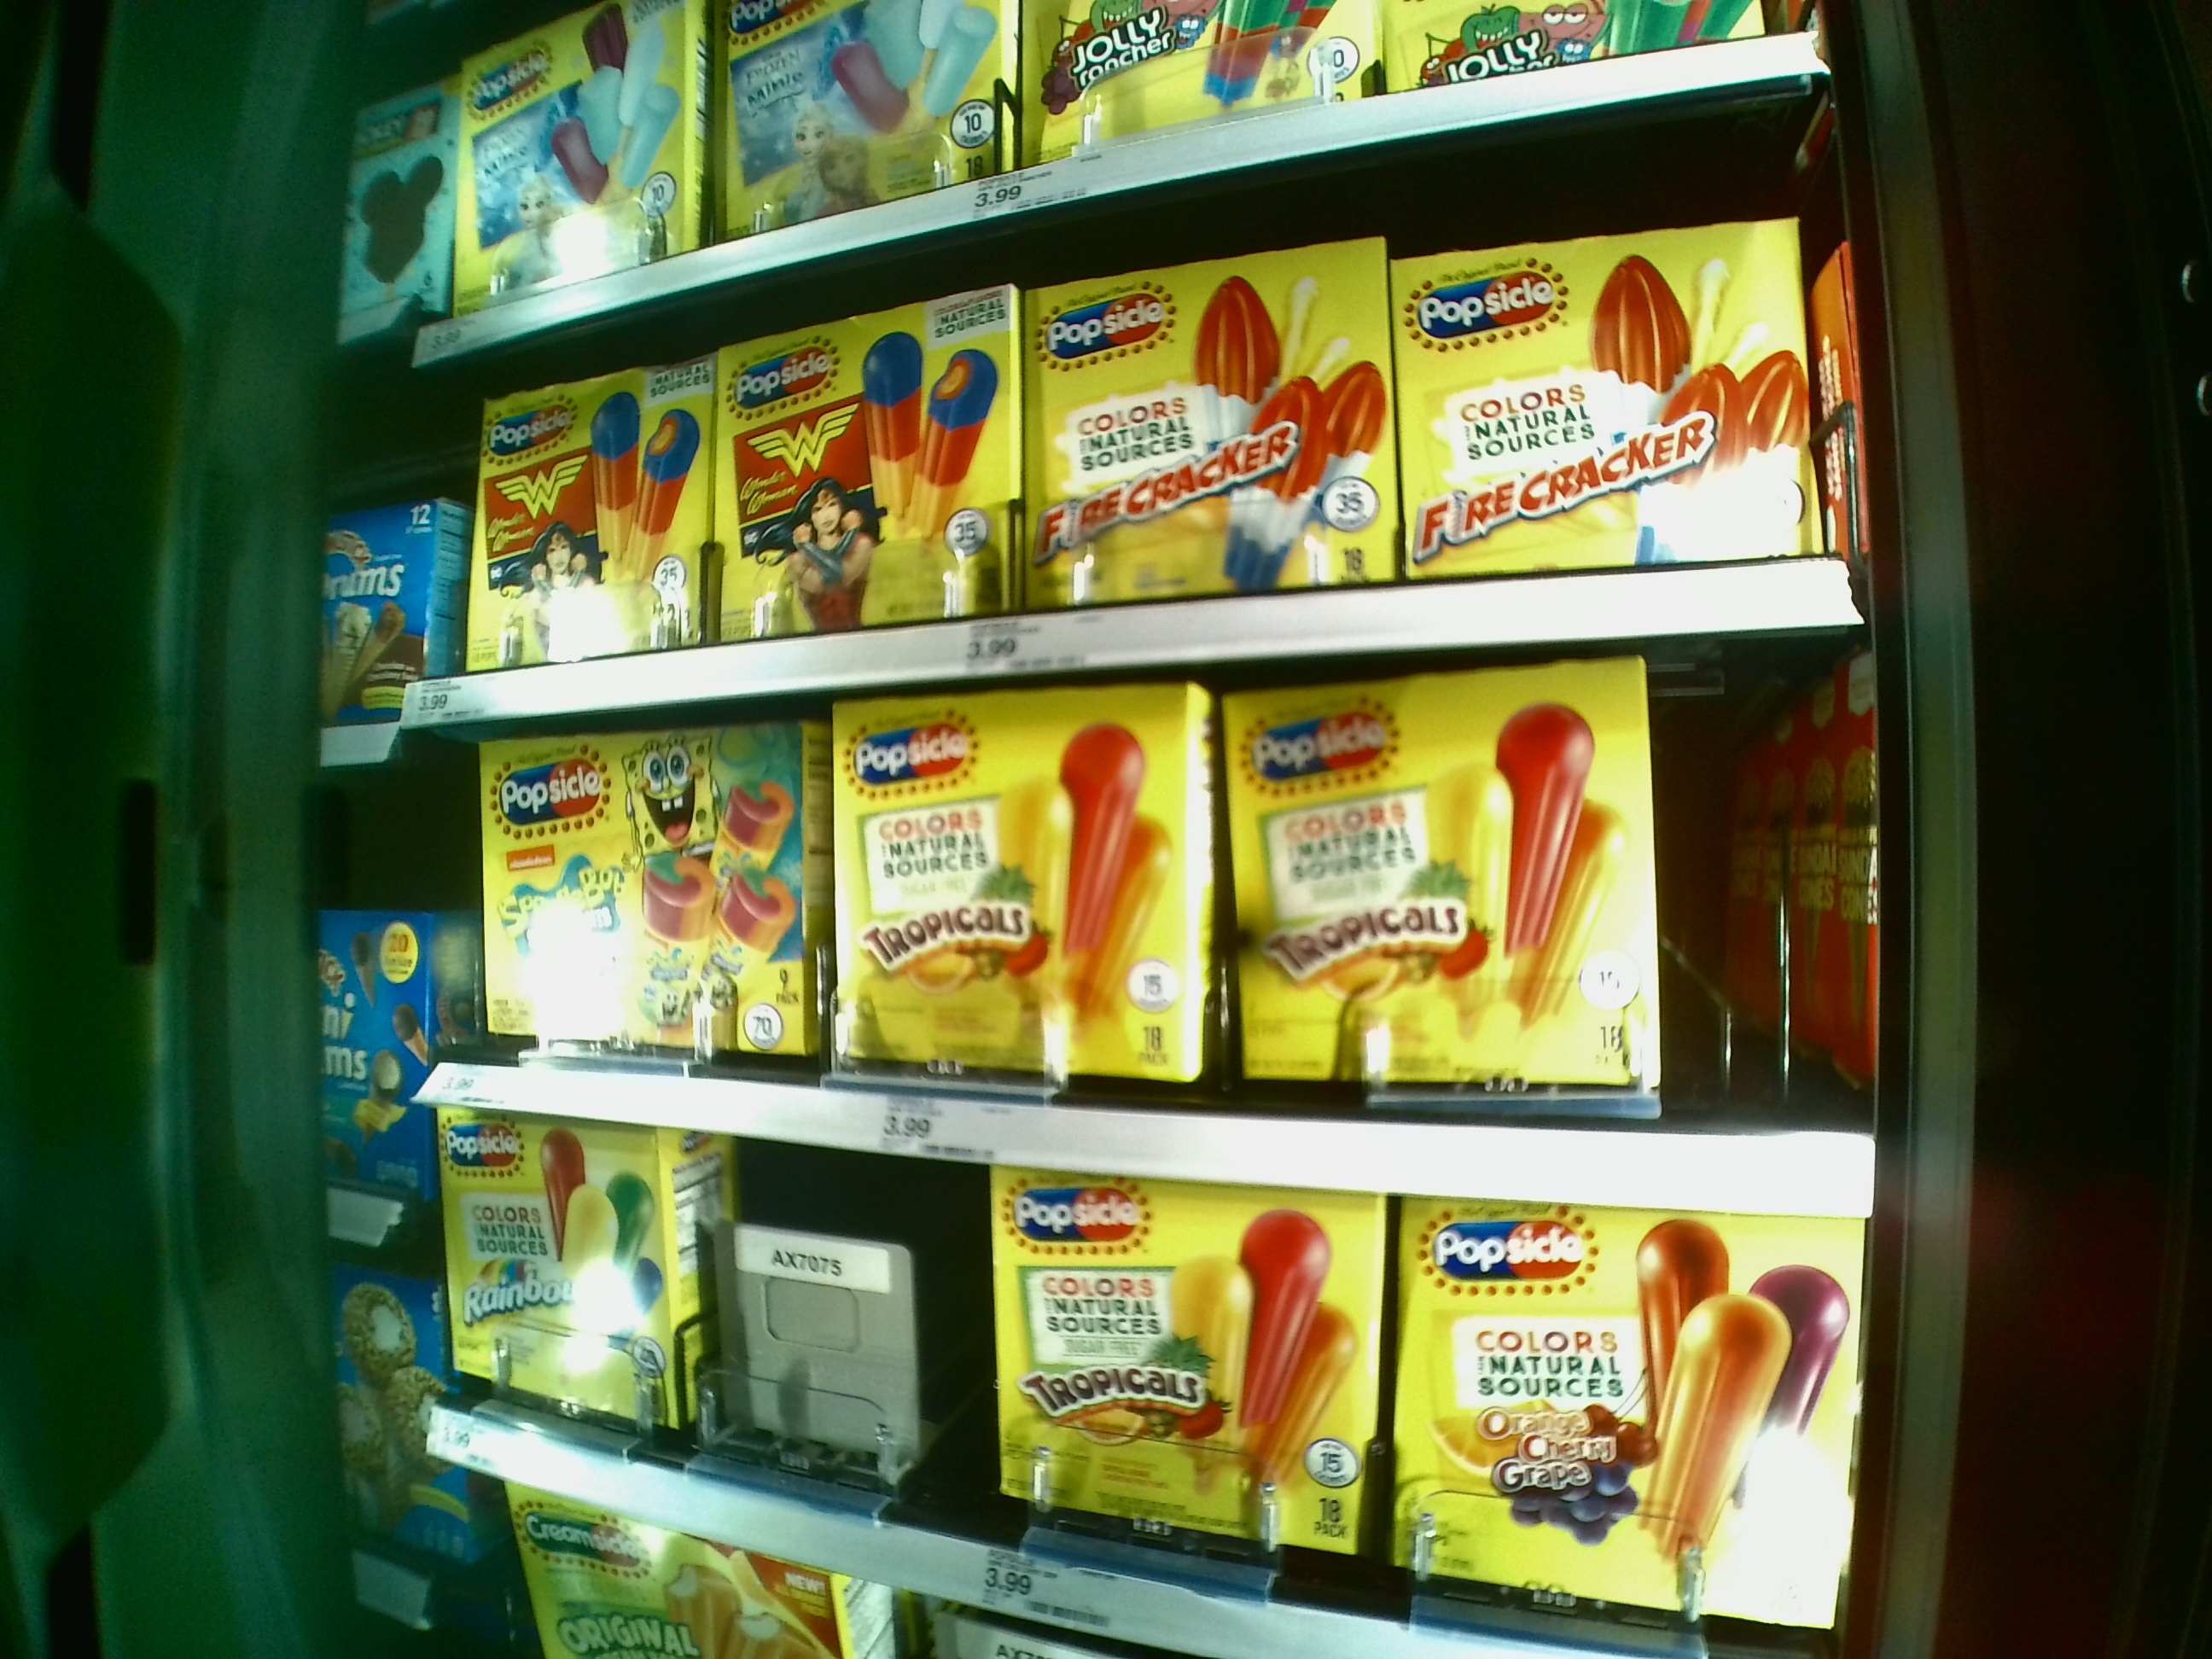shelf: (428, 1108, 1848, 1659), (434, 702, 1876, 1197), (432, 207, 1867, 692)
